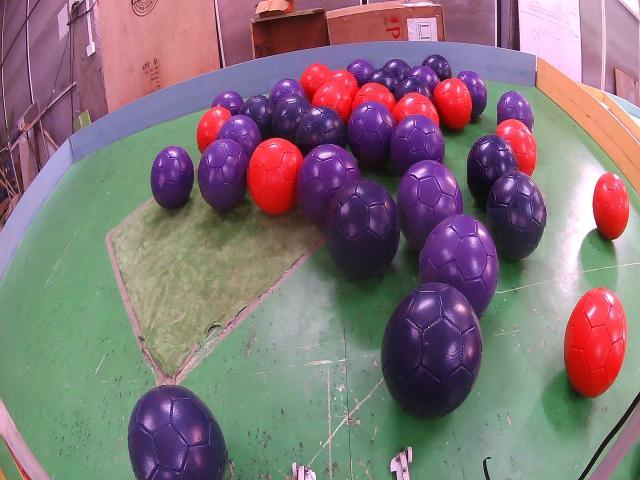jambhalya: (420, 215, 498, 315), (396, 160, 464, 250), (296, 145, 360, 226), (198, 140, 248, 211), (391, 113, 445, 177), (347, 102, 395, 168), (151, 147, 194, 208), (216, 115, 261, 158), (497, 91, 533, 131), (457, 71, 488, 117), (270, 80, 307, 106), (347, 58, 375, 87), (409, 67, 439, 94), (211, 92, 244, 114)
kaalyya: (380, 284, 482, 418), (128, 385, 227, 480), (325, 180, 400, 278), (487, 170, 545, 260), (467, 135, 518, 208), (295, 106, 346, 156), (272, 95, 311, 143), (240, 95, 275, 140), (394, 78, 432, 102), (423, 53, 451, 82), (368, 69, 398, 93), (384, 58, 411, 82)
